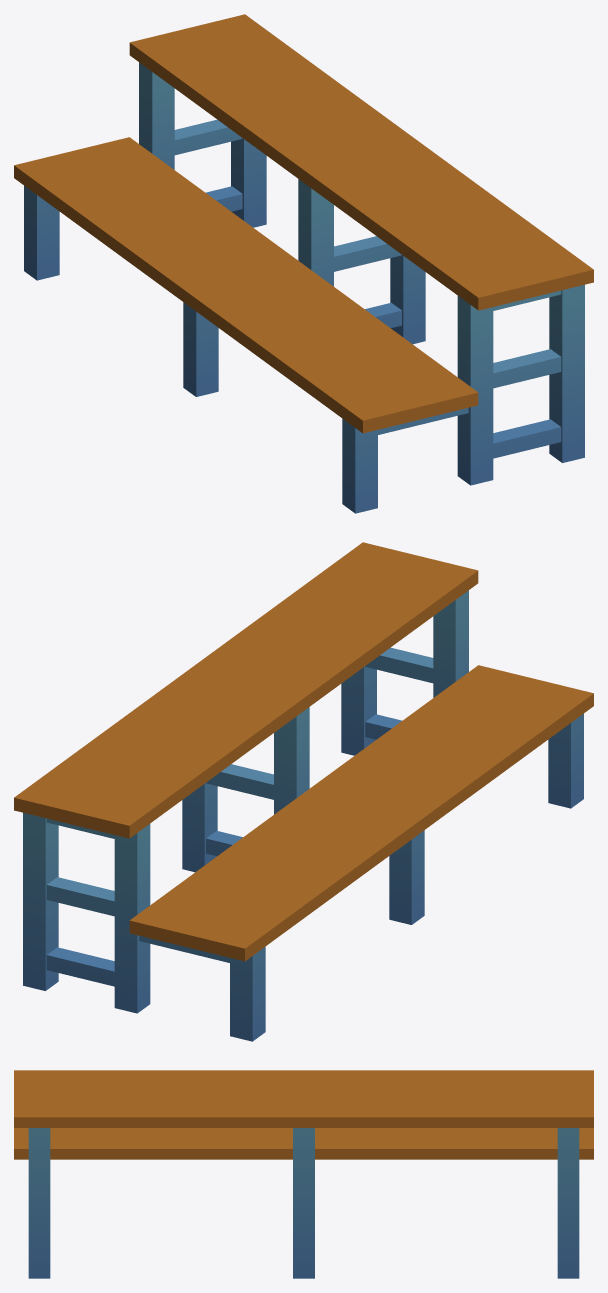
Rendered from Bench_1_B_5.glb.
The picture shows the model from 3 angles, top to bottom: view 1: azimuth 30°, elevation 25°; view 2: azimuth 150°, elevation 25°; view 3: azimuth 270°, elevation 25°; orthographic projection. The views are drawn at different scales.
Parts seen in each view (by area): view 1: Bench_1_B_5; view 2: Bench_1_B_5; view 3: Bench_1_B_5.
Boxes of the visible parts, x1,y1,x2,y2 form: Bench_1_B_5: [14, 14, 593, 513]; Bench_1_B_5: [14, 542, 593, 1041]; Bench_1_B_5: [14, 1070, 593, 1278].
Size of the model in its own units: 0.8137 by 0.654 by 2.13.
2 materials, 2 textured.
